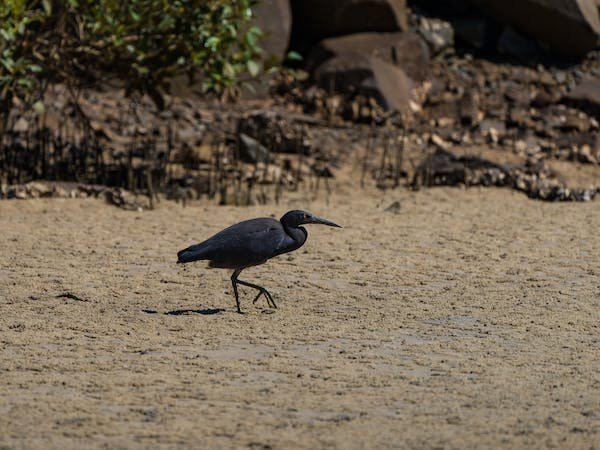Walking: (164, 179, 348, 332)
